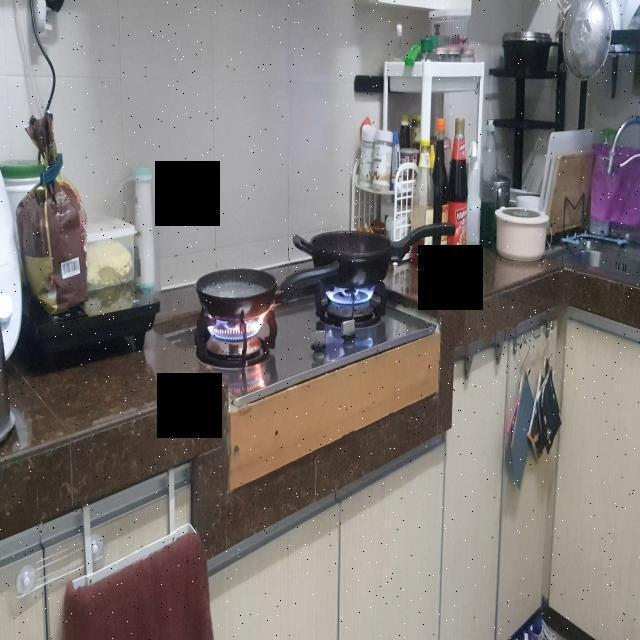Flame: (206, 315, 278, 342), (325, 285, 376, 306)
Pan: (306, 228, 405, 291), (194, 269, 310, 315)
